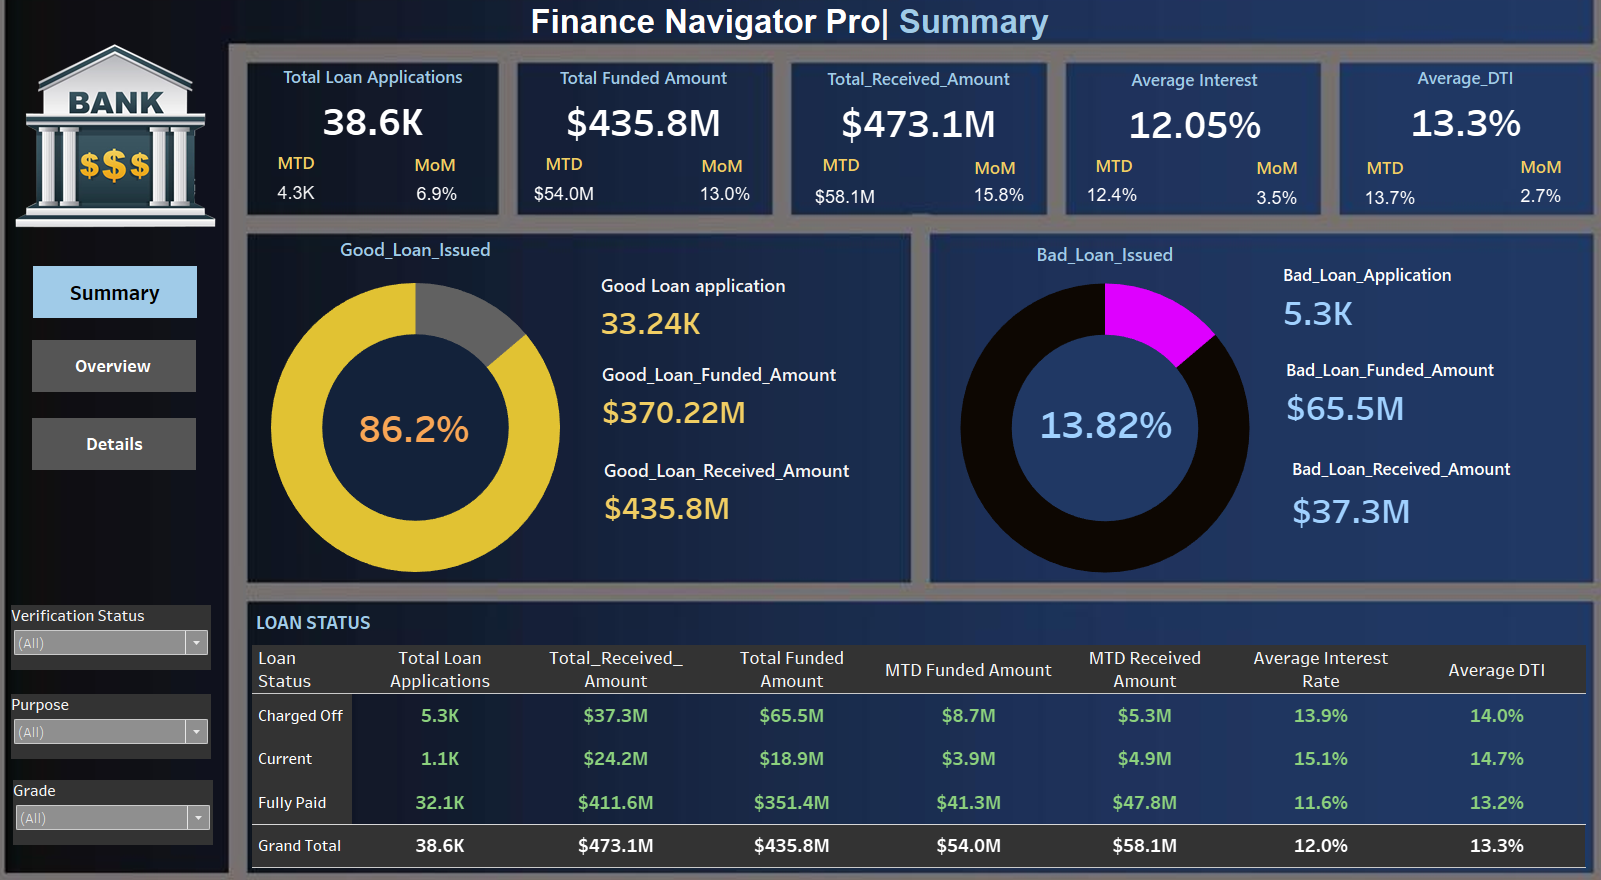

Layout of this report page (visuals, bound fields, positions):
{"tool":"tableau","page":{"name":"Summary","canvas":[1600,900],"ordinal":2},"visuals":[{"type":"text","box":[527,6,577,38]},{"type":"image","param":"Image/Tableau Background 1.jpg","box":[8,8,792,442]},{"type":"image","box":[800,8,396,554]},{"type":"dashboard-object","box":[1196,8,396,554]},{"type":"image","param":"Image/logo1.png","box":[9,40,273,195]},{"type":"worksheet","title":"Total Loan Applications","mark":"Automatic","box":[247,64,252,80]},{"type":"worksheet","title":"Total Funded Amount","mark":"Automatic","box":[519,65,249,79]},{"type":"worksheet","title":"Average_DTI","mark":"Automatic","box":[1339,65,253,80]},{"type":"worksheet","title":"Total_Received_Amount","mark":"Automatic","box":[791,66,255,80]},{"type":"worksheet","title":"Average Interest","mark":"Automatic","box":[1088,67,213,79]},{"type":"worksheet","title":"MTD_DTI","mark":"Automatic","box":[1344,141,91,80]},{"type":"worksheet","title":"MoM_DTI","mark":"Automatic","box":[1496,143,89,72]},{"type":"worksheet","title":"MTD_Avgerage_Interest_Rate","mark":"Automatic","box":[1071,145,81,66]},{"type":"worksheet","title":"MoM_Avgerage_Interest_Rate","mark":"Automatic","box":[1229,147,95,67]},{"type":"text","box":[256,153,80,24]},{"type":"text","box":[524,154,80,24]},{"type":"text","box":[395,155,80,24]},{"type":"text","box":[801,155,80,24]},{"type":"text","box":[682,156,80,24]},{"type":"text","box":[1074,156,80,24]},{"type":"text","box":[1501,157,80,24]},{"type":"text","box":[955,158,80,24]},{"type":"text","box":[1237,158,80,24]},{"type":"text","box":[1345,158,80,24]},{"type":"worksheet","title":"MTD_Amount_Received","mark":"Automatic","box":[806,164,78,51]},{"type":"worksheet","title":"MoM_Loan Application ","mark":"Automatic","box":[403,175,67,43]},{"type":"worksheet","title":"MTD_Loan Application","mark":"Automatic","box":[252,178,87,35]},{"type":"worksheet","title":"MTD_Funded_Amount","mark":"Automatic","box":[527,180,74,34]},{"type":"worksheet","title":"MOM_Received_Amount","mark":"Automatic","box":[956,183,85,30]},{"type":"worksheet","title":"MoM_Funded_Amount ","mark":"Automatic","box":[690,184,70,26]},{"type":"worksheet","title":"Good_Loan_Issued","mark":"Pie","rows":["Calculation_1103381957941891090","Calculation_1103381957941891090"],"box":[255,236,321,350]},{"type":"worksheet","title":"Bad_Loan_Issued","mark":"Pie","rows":["Calculation_1103381957941891090","Calculation_1103381957941891090"],"box":[939,241,332,341]},{"type":"worksheet","title":"Bad_Loan_Application","mark":"Automatic","box":[1275,258,300,75]},{"type":"worksheet","title":"Good Loan application","mark":"Automatic","box":[593,268,300,75]},{"type":"dashboard-object","box":[33,269,164,52]},{"type":"dashboard-object","box":[32,343,164,52]},{"type":"worksheet","title":"Bad_Loan_Funded_Amount ","mark":"Automatic","box":[1278,353,300,75]},{"type":"worksheet","title":"Good_Loan_Funded_Amount","mark":"Automatic","box":[594,357,300,75]},{"type":"worksheet","title":"Bad_loan_Percentage","mark":"Automatic","box":[1032,364,148,103]},{"type":"worksheet","title":"Good loan Percentage","mark":"Automatic","box":[339,383,149,93]},{"type":"dashboard-object","box":[32,421,164,52]},{"type":"dashboard-object","box":[8,450,792,442]},{"type":"worksheet","title":"Good_Loan_Received_Amount","mark":"Automatic","box":[596,453,300,75]},{"type":"worksheet","title":"Bad_Loan_Received_Amount ","mark":"Automatic","box":[1288,456,300,75]},{"type":"dashboard-object","box":[800,562,792,330]},{"type":"filter","title":"Good_Loan_Issued","param":"[federated.1fspyx60za0spv1bvc3qw0eojgrr].[none:verification_status:nk]","box":[11,608,200,65]},{"type":"worksheet","title":"LOAN STATUS","mark":"Automatic","rows":["loan_status"],"box":[252,608,1334,263]},{"type":"filter","title":"Good_Loan_Issued","param":"[federated.1fspyx60za0spv1bvc3qw0eojgrr].[none:purpose:nk]","box":[11,697,200,65]},{"type":"filter","title":"Good_Loan_Issued","param":"[federated.1fspyx60za0spv1bvc3qw0eojgrr].[none:grade:nk]","box":[13,783,200,65]}]}

Visuals, with their boxes in screenshot pixels (x1, y1, x2, y2), scaled from the page's 1600x900 canvas onto the 1601x880 screenshot:
text: <region>527, 6, 1105, 43</region>
image: <region>8, 8, 801, 440</region>
image: <region>801, 8, 1197, 550</region>
dashboard-object: <region>1197, 8, 1593, 550</region>
image: <region>9, 39, 282, 230</region>
"Total Loan Applications" worksheet: <region>247, 63, 499, 141</region>
"Total Funded Amount" worksheet: <region>519, 64, 768, 141</region>
"Average_DTI" worksheet: <region>1340, 64, 1593, 142</region>
"Total_Received_Amount" worksheet: <region>791, 65, 1047, 143</region>
"Average Interest" worksheet: <region>1089, 66, 1302, 143</region>
"MTD_DTI" worksheet: <region>1345, 138, 1436, 216</region>
"MoM_DTI" worksheet: <region>1497, 140, 1586, 210</region>
"MTD_Avgerage_Interest_Rate" worksheet: <region>1072, 142, 1153, 206</region>
"MoM_Avgerage_Interest_Rate" worksheet: <region>1230, 144, 1325, 209</region>
text: <region>256, 150, 336, 173</region>
text: <region>524, 151, 604, 174</region>
text: <region>395, 152, 475, 175</region>
text: <region>802, 152, 882, 175</region>
text: <region>682, 153, 762, 176</region>
text: <region>1075, 153, 1155, 176</region>
text: <region>1502, 154, 1582, 177</region>
text: <region>956, 154, 1036, 178</region>
text: <region>1238, 154, 1318, 178</region>
text: <region>1346, 154, 1426, 178</region>
"MTD_Amount_Received" worksheet: <region>807, 160, 885, 210</region>
"MoM_Loan Application " worksheet: <region>403, 171, 470, 213</region>
"MTD_Loan Application" worksheet: <region>252, 174, 339, 208</region>
"MTD_Funded_Amount" worksheet: <region>527, 176, 601, 209</region>
"MOM_Received_Amount" worksheet: <region>957, 179, 1042, 208</region>
"MoM_Funded_Amount " worksheet: <region>690, 180, 760, 205</region>
"Good_Loan_Issued" worksheet (Pie marks): <region>255, 231, 576, 573</region>
"Bad_Loan_Issued" worksheet (Pie marks): <region>940, 236, 1272, 569</region>
"Bad_Loan_Application" worksheet: <region>1276, 252, 1576, 326</region>
"Good Loan application" worksheet: <region>593, 262, 894, 335</region>
dashboard-object: <region>33, 263, 197, 314</region>
dashboard-object: <region>32, 335, 196, 386</region>
"Bad_Loan_Funded_Amount " worksheet: <region>1279, 345, 1579, 418</region>
"Good_Loan_Funded_Amount" worksheet: <region>594, 349, 895, 422</region>
"Bad_loan_Percentage" worksheet: <region>1033, 356, 1181, 457</region>
"Good loan Percentage" worksheet: <region>339, 374, 488, 465</region>
dashboard-object: <region>32, 412, 196, 462</region>
dashboard-object: <region>8, 440, 801, 872</region>
"Good_Loan_Received_Amount" worksheet: <region>596, 443, 897, 516</region>
"Bad_Loan_Received_Amount " worksheet: <region>1289, 446, 1589, 519</region>
dashboard-object: <region>801, 550, 1593, 872</region>
"Good_Loan_Issued" filter: <region>11, 594, 211, 658</region>
"LOAN STATUS" worksheet: <region>252, 594, 1587, 852</region>
"Good_Loan_Issued" filter: <region>11, 682, 211, 745</region>
"Good_Loan_Issued" filter: <region>13, 766, 213, 829</region>
